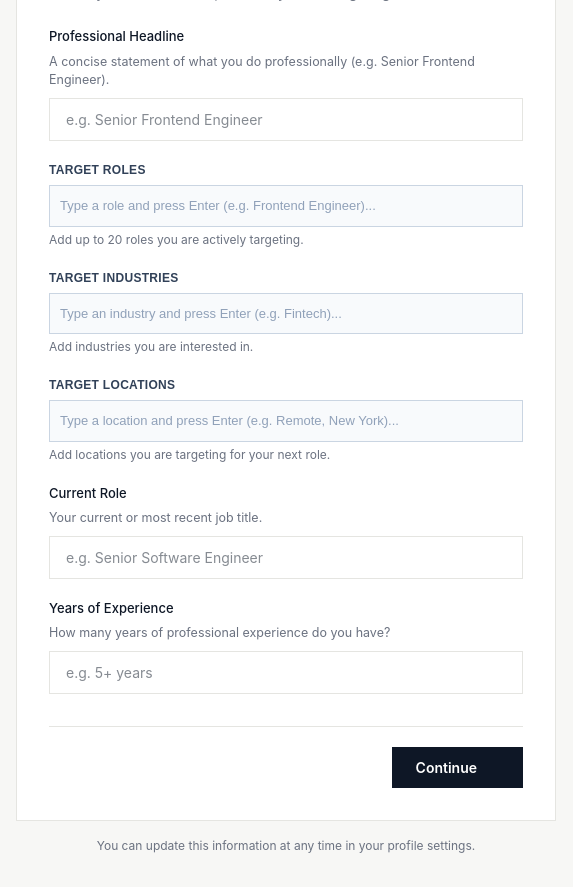
Test: OnboardingComponent › validates Step 1 and blocks progression if required fields are empty
(page scrolled)
Click the button "Continue".
click(457, 768)  # box 392,747 -> 523,788
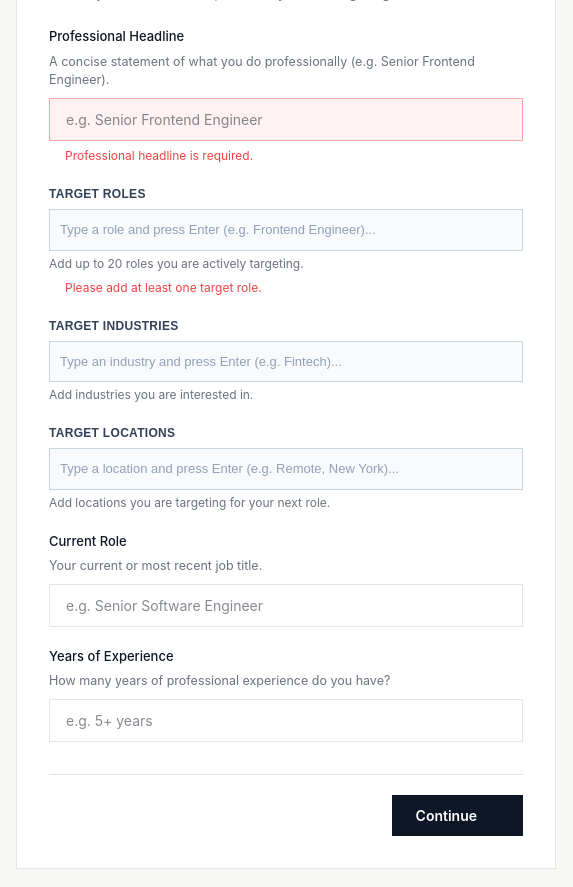
Check: the text "Professional headline is required." is shown, box 65,148 -> 253,163
Check: the text "Please add at least one target role." is shown, box 65,280 -> 262,294
